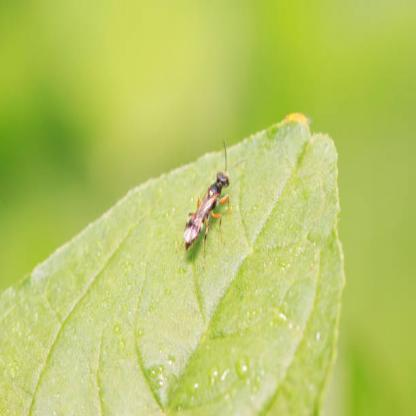sawfly: (176, 140, 236, 274)
